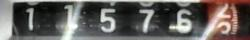digits: (171, 0, 196, 36), (214, 0, 233, 37), (137, 7, 154, 34), (100, 8, 115, 32), (63, 4, 75, 31), (26, 8, 34, 30)
